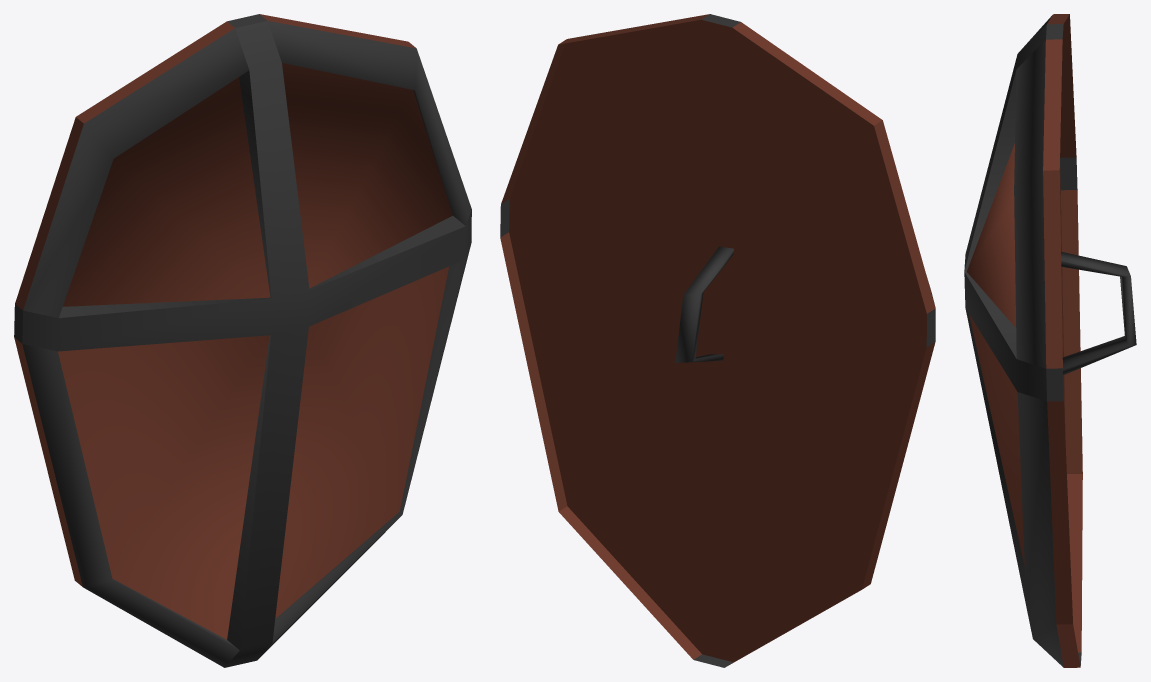
Rendered from bronze_kiteshield.glb.
3 renders of one model, left to right at view 1: azimuth 30°, elevation 25°; view 2: azimuth 150°, elevation 25°; view 3: azimuth 270°, elevation 25°, orthographic. The views are drawn at different scales.
Visible parts, largest first — view 1: Bronze Kiteshield; view 2: Bronze Kiteshield; view 3: Bronze Kiteshield.
Part boxes in pixels (<box>): Bronze Kiteshield: <box>14,14,471,667</box>; Bronze Kiteshield: <box>500,14,935,667</box>; Bronze Kiteshield: <box>964,14,1136,667</box>.
Bounding box in the file's own units: 0.381 × 0.532 × 0.132.
